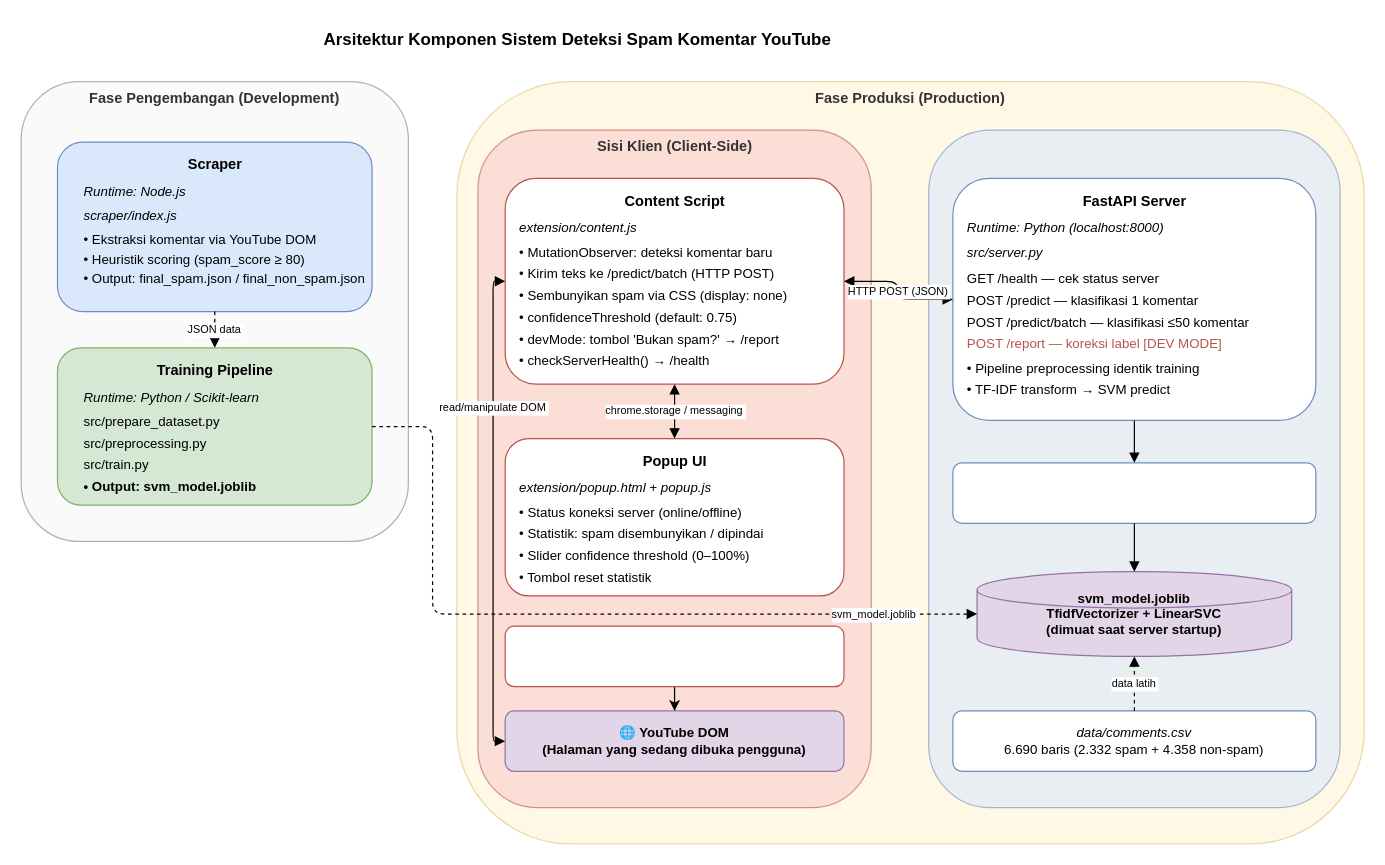
The diagram is 1385 pixels wide and 865 high, and some of its shapes have lost their labels. The shapes that lost their labels are listed below. From the top down, each one's box as (x1, y1, x2, y2) in pixels, then its label:
(927, 129, 1340, 808): Sisi Peladen (Server-Side / Local)
(952, 462, 1316, 523): src/preprocessing.py Pipeline 7+3 tahap normalisasi teks
(504, 625, 844, 687): manifest.json (Manifest V3) Hak akses: activeTab, scripting, storage
